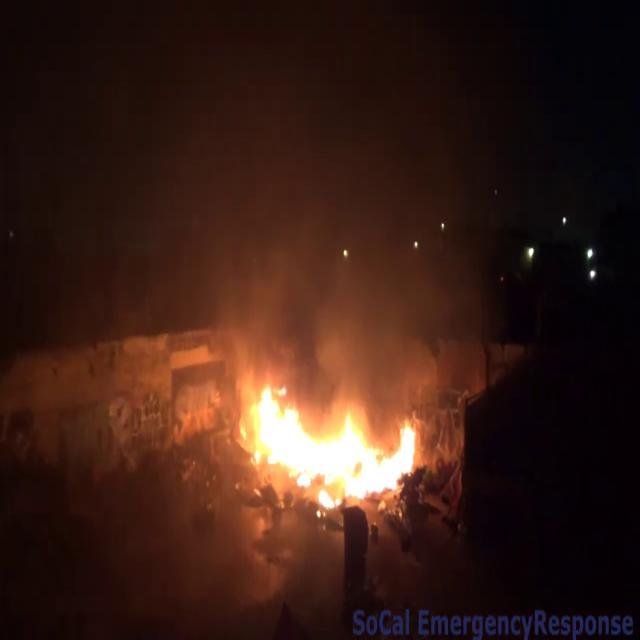Fire: (235, 372, 424, 506)
Smoke: (156, 0, 482, 407)
